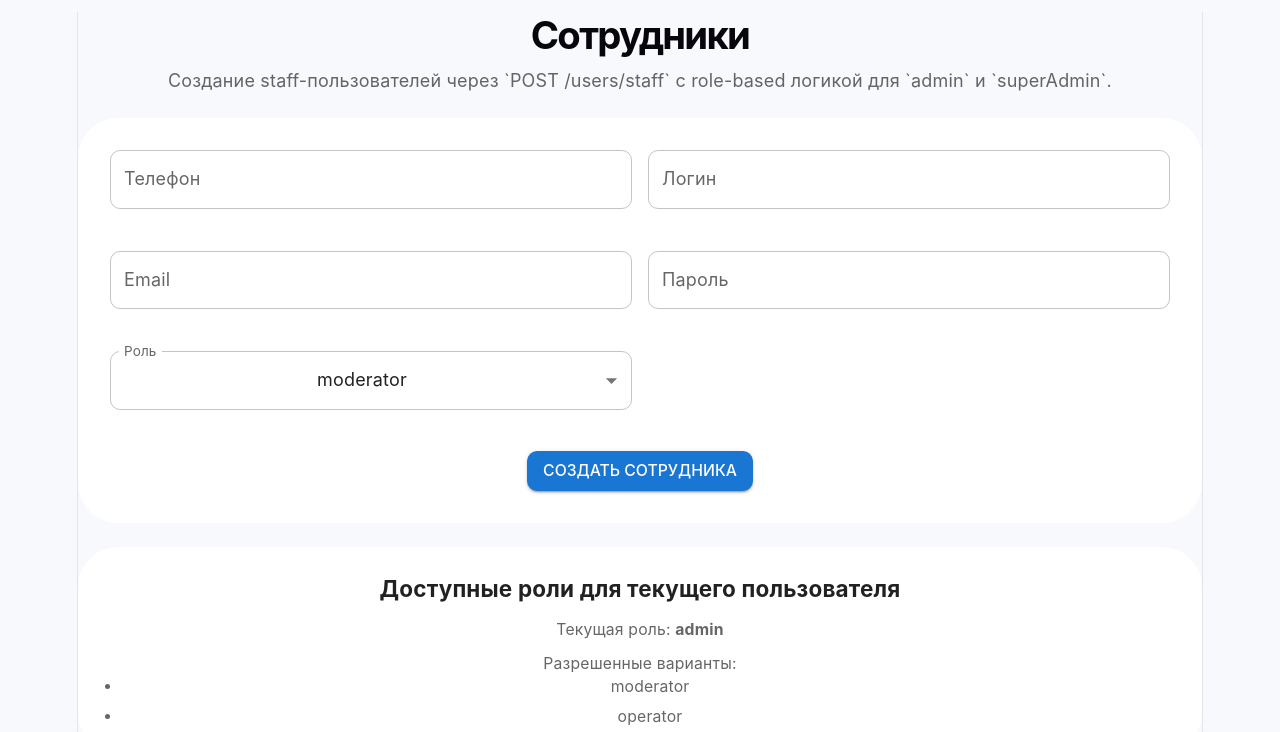
Test: StaffPage › не показывает organizationIds и не дает выбрать admin для admin-пользователя
The width and height of the screenshot is (1280, 732).
Click the dropdown named "роль" at (362,380), box [317,369,407,390]
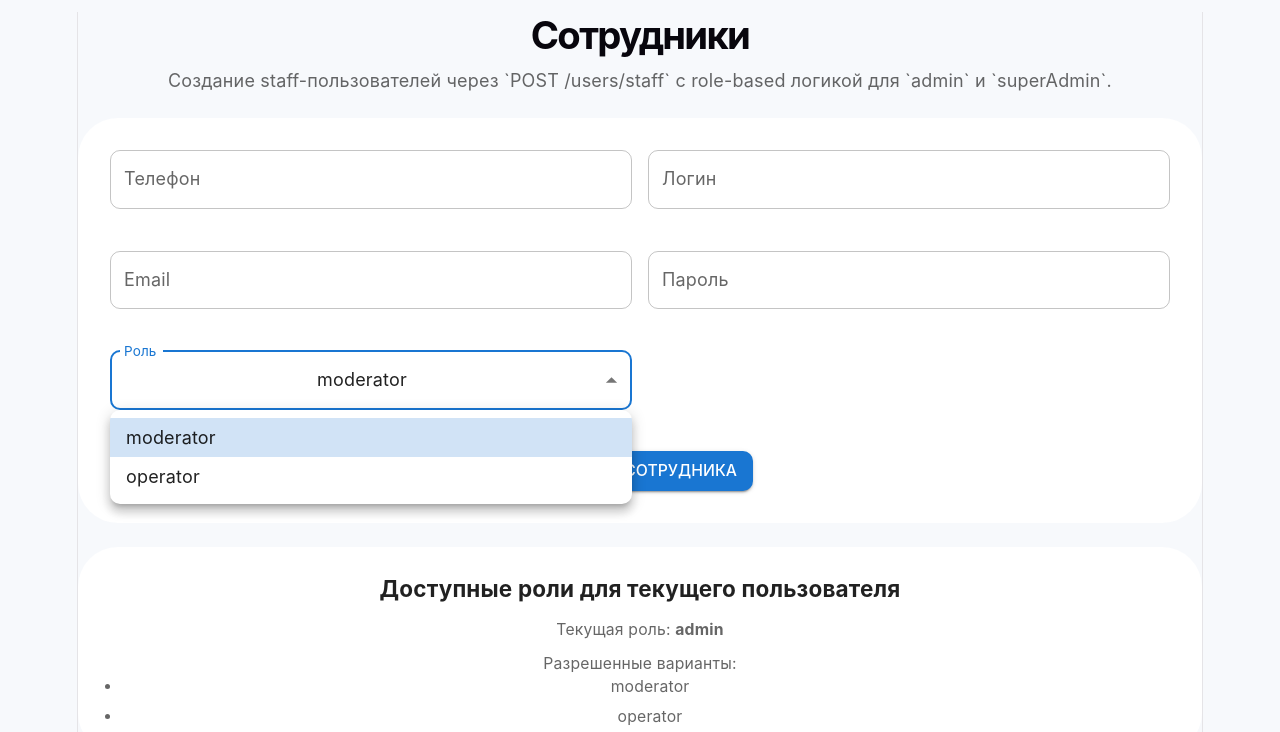
Now the option "moderator" is shown, box [110,418,632,457]
Now the option "operator" is shown, box [126,466,200,487]
